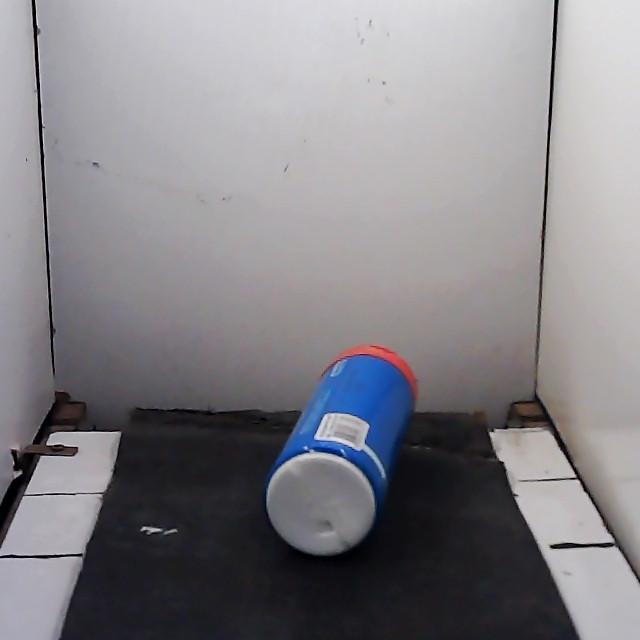plastico: (265, 345, 416, 555)
